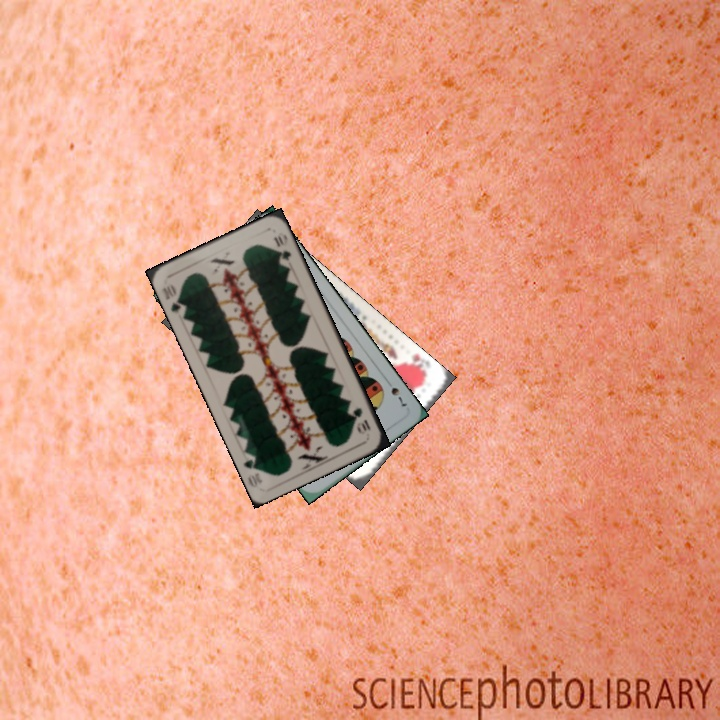G10: (158, 280, 189, 316), (349, 404, 373, 437)
HK: (401, 349, 425, 369)
S7: (387, 383, 410, 409)
